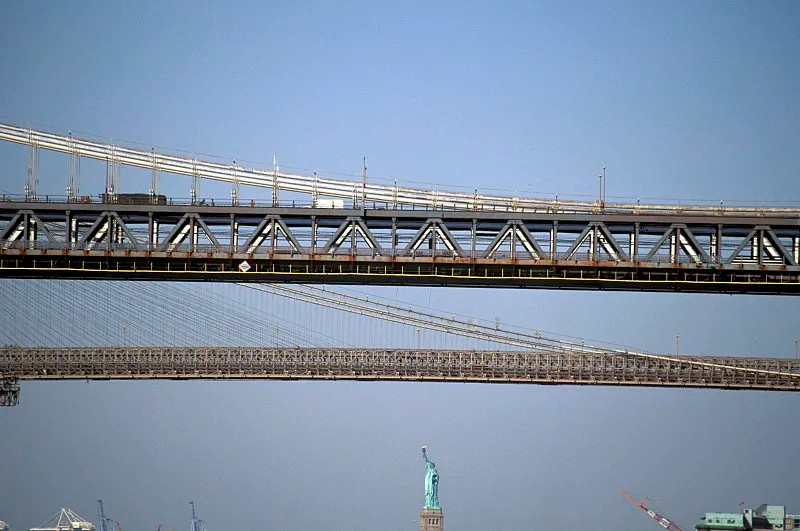SL: (419, 445, 445, 531)
